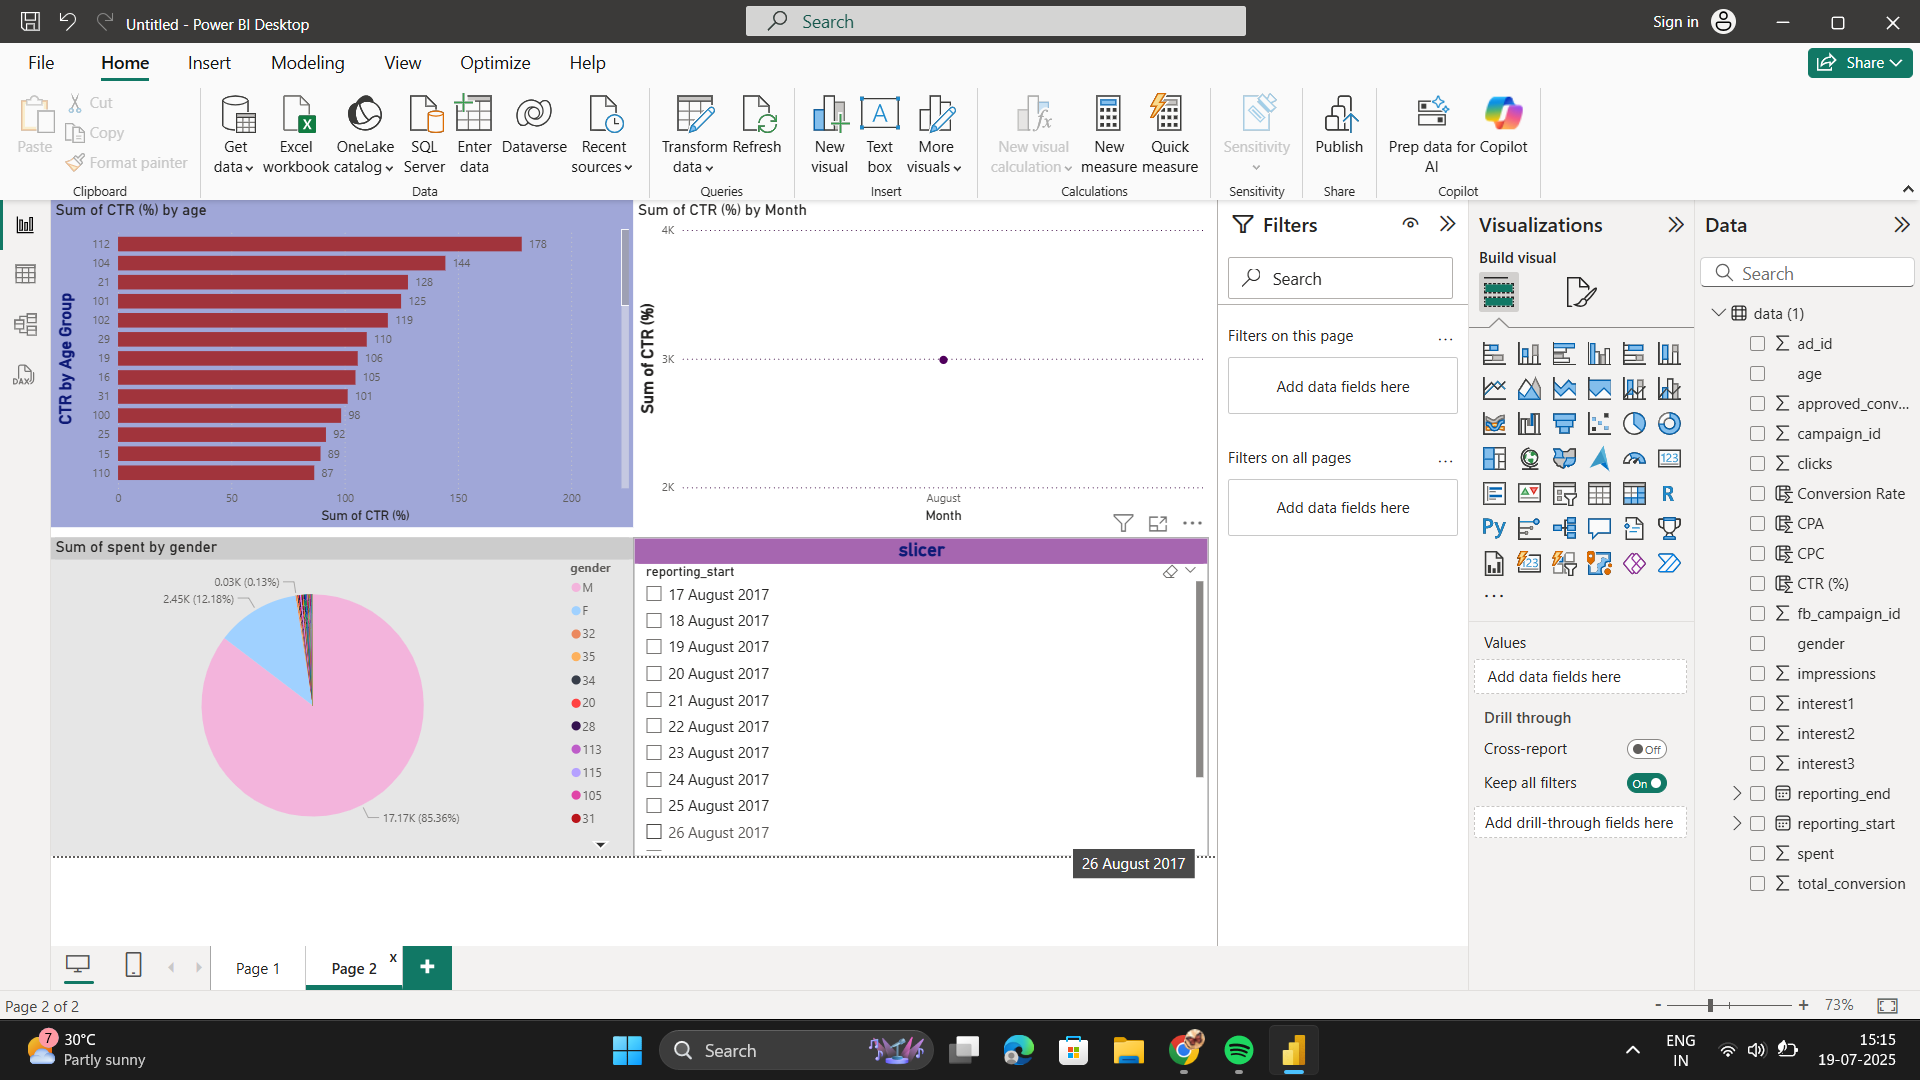

What the dashboard file says about the page in this screenshot:
{"tool":"powerbi","page":{"name":"Page 2","canvas":[1280,720],"ordinal":1},"visuals":[{"type":"clusteredBarChart","fields":{"Category":["data (1).age"],"Y":["Sum(data (1).CTR (%))"]},"box":[0,0,639.5,359.5],"z":0},{"type":"pieChart","fields":{"Category":["data (1).gender"],"Y":["Sum(data (1).spent)"]},"box":[0,370,639,350],"z":1000},{"type":"lineChart","fields":{"Category":["data (1).reporting_start.Variation.Date Hierarchy.Month"],"Y":["Sum(data (1).CTR (%))"]},"box":[639.5,0,631.2,359.5],"z":2000},{"type":"slicer","title":"slicer","fields":{"Values":["data (1).reporting_start"]},"box":[639,370,631,350],"z":2001}]}

Visuals, with their boxes on the page's 1280x720 design canvas (x1, y1, x2, y2). These are canvas units, not pixel positions in the 1920x1080 screenshot, which may show the page scaled, cropped or inside an application window:
clusteredBarChart - data (1).age x Sum(data (1).CTR (%)): <bbox>0, 0, 640, 360</bbox>
pieChart - data (1).gender x Sum(data (1).spent): <bbox>0, 370, 639, 720</bbox>
lineChart - data (1).reporting_start.Variation.Date Hierarchy.Month x Sum(data (1).CTR (%)): <bbox>640, 0, 1271, 360</bbox>
"slicer" slicer: <bbox>639, 370, 1270, 720</bbox>
